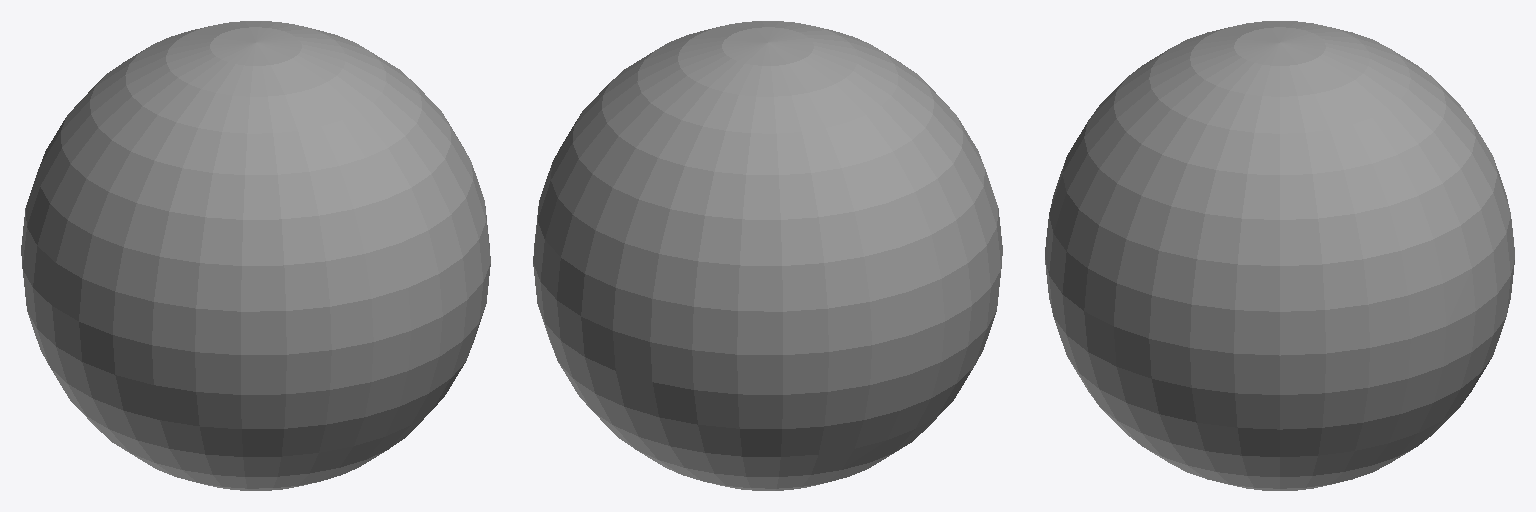
Rendered from pluto.obj.
3 renders of one model, left to right at view 1: azimuth 30°, elevation 25°; view 2: azimuth 150°, elevation 25°; view 3: azimuth 270°, elevation 25°, orthographic.
Visible parts, largest first — view 1: plutao_Mesh.007; view 2: plutao_Mesh.007; view 3: plutao_Mesh.007.
Boxes of the visible parts, x1,y1,x2,y2 form: plutao_Mesh.007: [21, 21, 490, 490]; plutao_Mesh.007: [533, 21, 1002, 490]; plutao_Mesh.007: [1045, 21, 1514, 490].
Bounding box in the file's own units: 1.03 × 1.03 × 1.03.